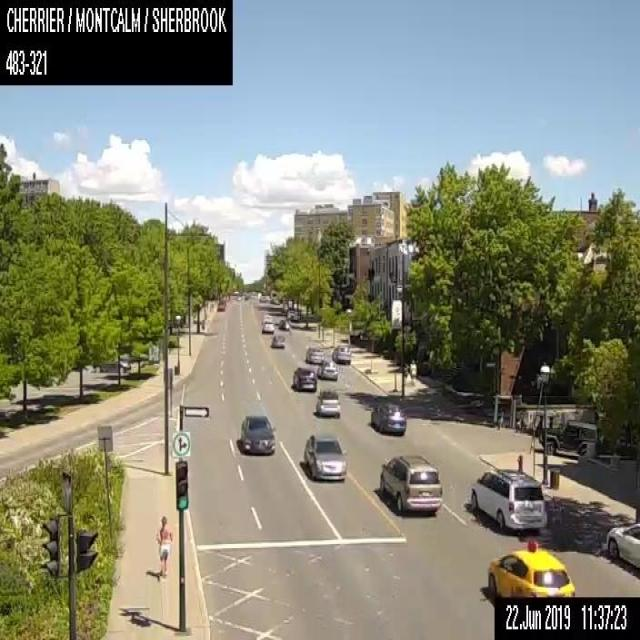pedestrian: (154, 514, 172, 578), (403, 356, 415, 385)
vehicle: (469, 467, 546, 533), (486, 539, 574, 596), (378, 452, 443, 513), (302, 432, 347, 482), (536, 419, 596, 456), (606, 522, 639, 570), (240, 414, 276, 454), (371, 403, 406, 432), (315, 389, 340, 416), (292, 365, 316, 391), (92, 357, 130, 371), (316, 359, 338, 379), (331, 344, 351, 364), (304, 346, 324, 363), (271, 331, 284, 347), (261, 319, 273, 333), (278, 318, 289, 330), (286, 309, 295, 319), (217, 300, 224, 309)
